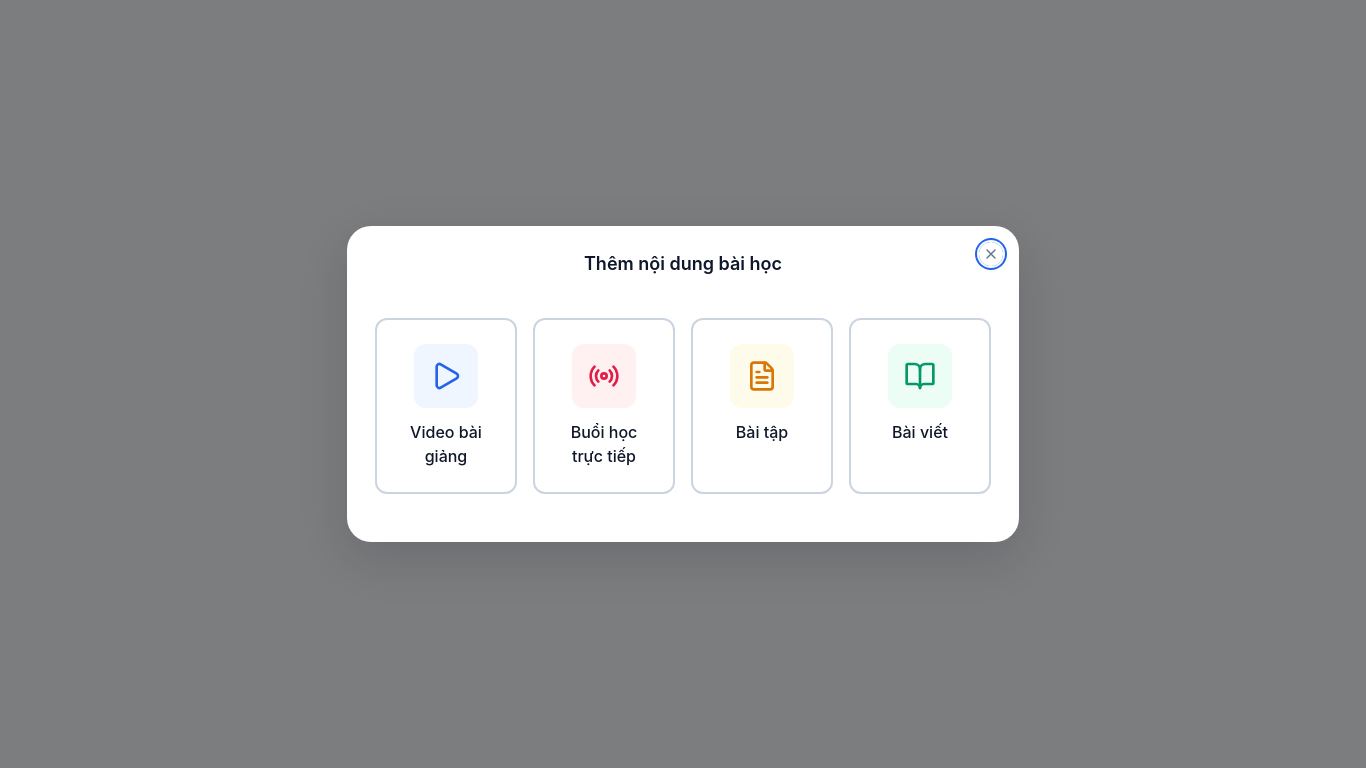
Test case: AddContentModal — chọn lớp cho buổi học trực tiếp (finding #1) › khoá 0 lớp: nút gửi bị vô hiệu hoá VÀ nói rõ khoá chưa có lớp
Click the button "Buổi học trực tiếp": (604, 406) [533,318,675,494]
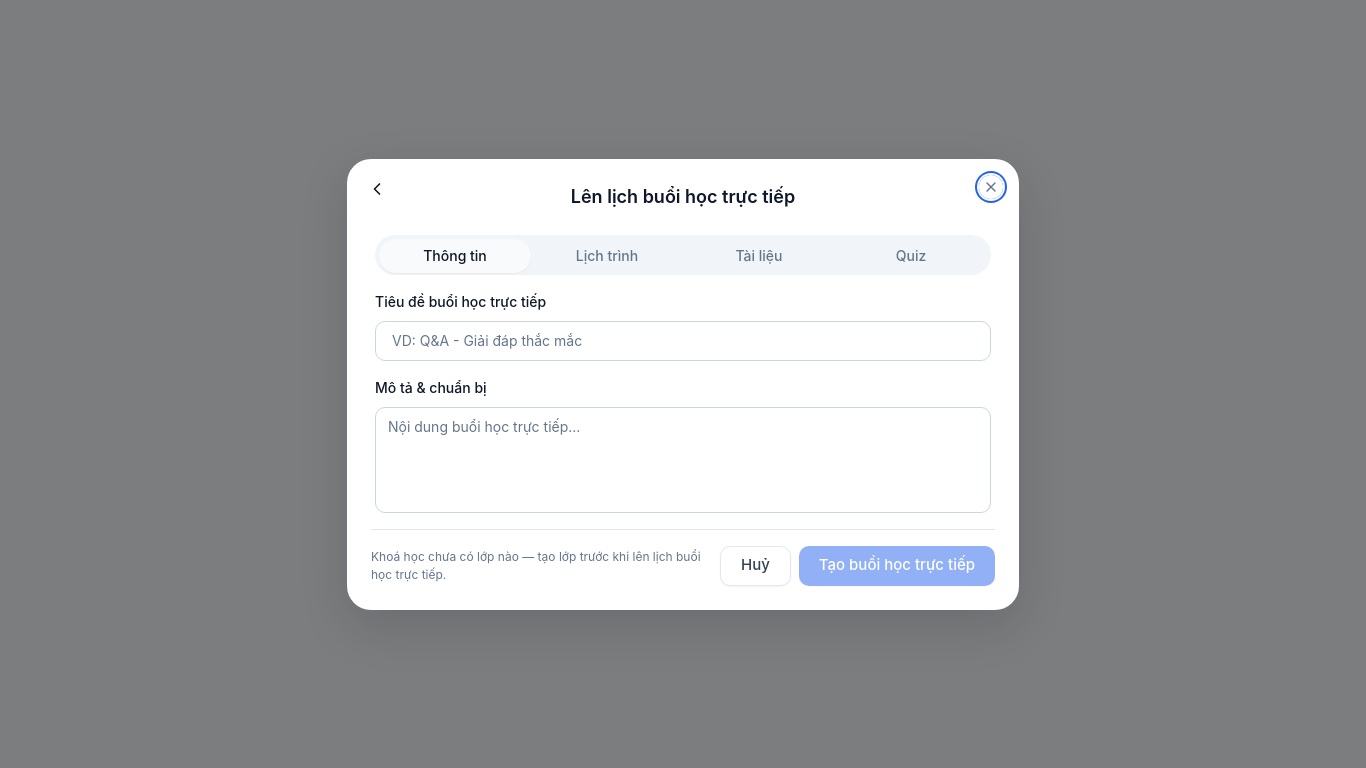
In the field labelled "Tiêu đề buổi học trực tiếp": (683, 340) [375,320,991,360], type "Buổi Q&A"
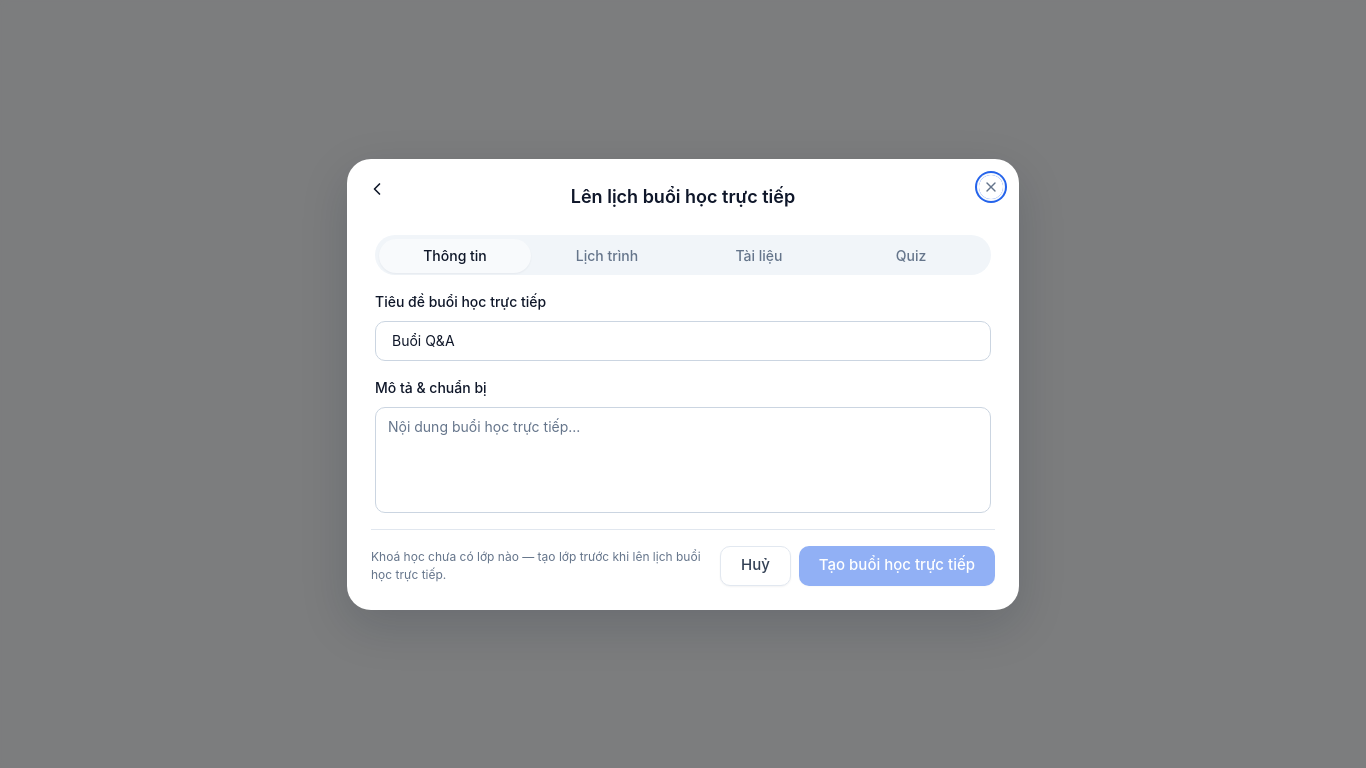
Click the tab "Lịch trình": (607, 256) [531,238,683,272]
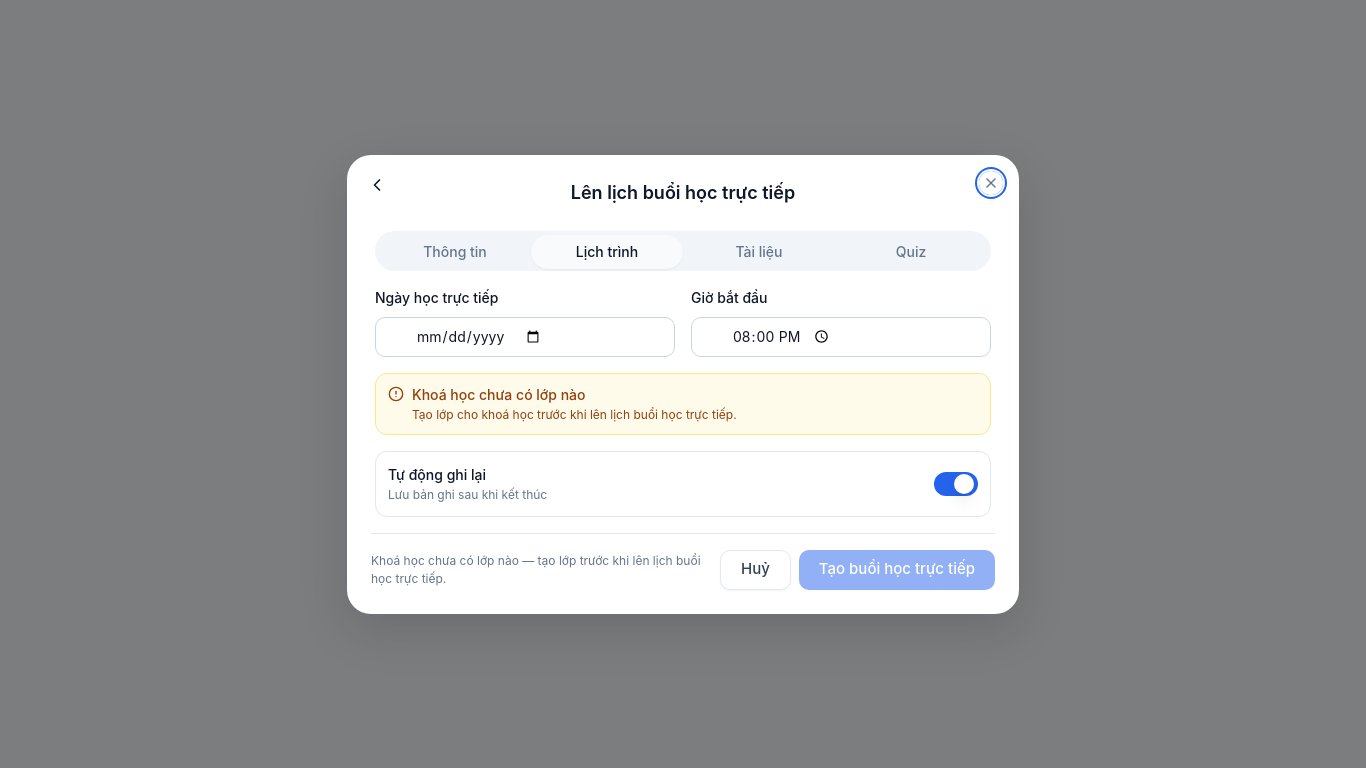
Expected: the text "Khoá học chưa có lớp nào — tạo lớp trước khi lên lịch buổi học trực tiếp." is shown, [371,552,712,588]
Expected: the text "Khoá học chưa có lớp nào" is shown, [412,386,586,402]
